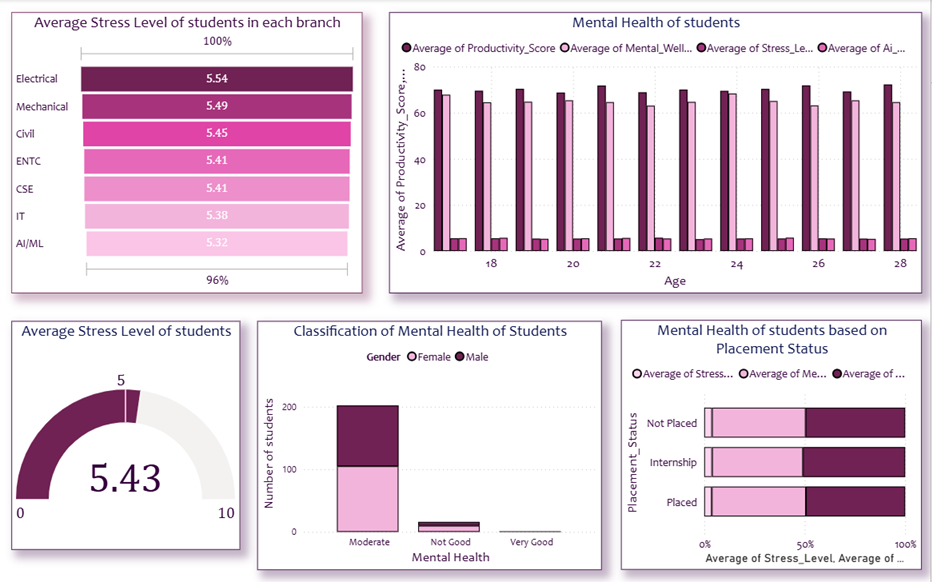

Layout of this report page (visuals, bound fields, positions):
{"tool":"powerbi","page":{"name":"Mental Health","canvas":[1140,720],"ordinal":2},"visuals":[{"type":"gauge","title":"Average Stress Level of students","fields":{"TargetValue":["indian_students_ai_dataset.Target Value"],"Y":["indian_students_ai_dataset.Average Stress Level"],"MaxValue":["indian_students_ai_dataset.Maximum stress level"],"MinValue":["indian_students_ai_dataset.Minimum Stress Level"]},"box":[15.9,393.8,280,280],"z":0},{"type":"columnChart","title":"Classification of Mental Health of Students","fields":{"Category":["indian_students_ai_dataset.Mental Health"],"Series":["indian_students_ai_dataset.Gender"],"Y":["CountNonNull(indian_students_ai_dataset.Student_Id)"]},"box":[316.7,393.8,421.9,304.5],"z":1000},{"type":"clusteredColumnChart","title":"Mental Health of students","fields":{"Category":["indian_students_ai_dataset.Age"],"Y":["Avg(indian_students_ai_dataset.Productivity_Score)","Avg(indian_students_ai_dataset.Mental_Wellbeing_Score)","Avg(indian_students_ai_dataset.Stress_Level)","Avg(indian_students_ai_dataset.Ai_Replaceability_Fear)"]},"box":[478.1,15.9,651.8,343.6],"z":2000},{"type":"hundredPercentStackedBarChart","title":"Mental Health of students based on Placement Status","fields":{"Category":["indian_students_ai_dataset.Placement_Status"],"Y":["Avg(indian_students_ai_dataset.Stress_Level)","Avg(indian_students_ai_dataset.Mental_Wellbeing_Score)","Avg(indian_students_ai_dataset.Productivity_Score)"]},"box":[761.8,392.5,368.1,305.7],"z":3000},{"type":"funnel","title":"Average Stress Level of students in each branch","fields":{"Category":["indian_students_ai_dataset.Branch"],"Y":["Avg(indian_students_ai_dataset.Stress_Level)"]},"box":[15.9,15.9,429.2,343.6],"z":4000}]}

Visuals, with their boxes in screenshot pixels (x1, y1, x2, y2), scaled from the page's 1140x720 canvas onto the 932x584 screenshot:
"Average Stress Level of students" gauge: region(13, 319, 242, 547)
"Classification of Mental Health of Students" columnChart: region(259, 319, 604, 566)
"Mental Health of students" clusteredColumnChart: region(391, 13, 924, 292)
"Mental Health of students based on Placement Status" hundredPercentStackedBarChart: region(623, 318, 924, 566)
"Average Stress Level of students in each branch" funnel: region(13, 13, 364, 292)
